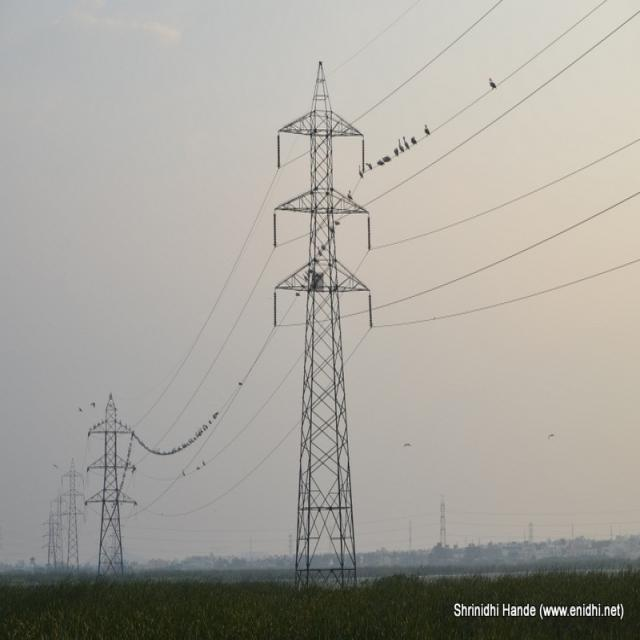non-critical vegetation: (272, 48, 380, 593), (83, 398, 130, 596)
